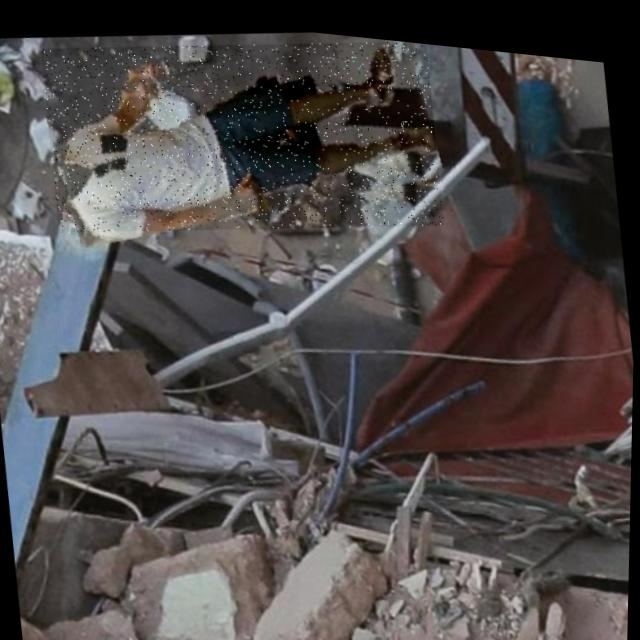Person in Rubble: (37, 3, 447, 260)
